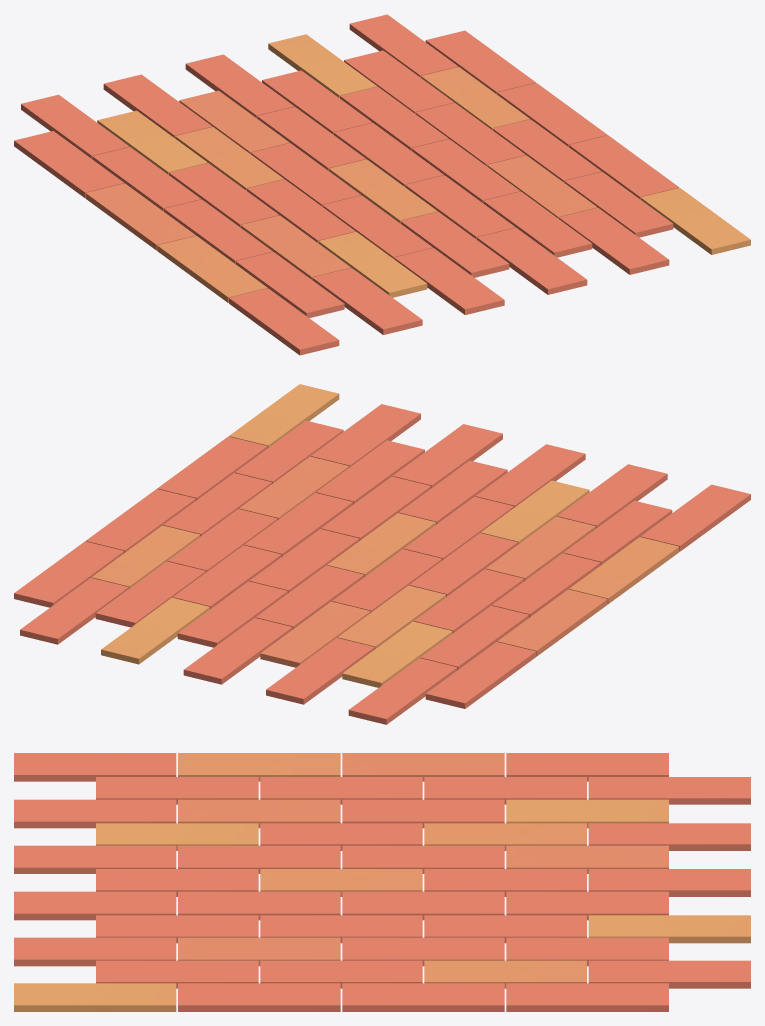
The model's file is Floor.fbx.
3 renders of one model, top to bottom at view 1: azimuth 30°, elevation 25°; view 2: azimuth 150°, elevation 25°; view 3: azimuth 270°, elevation 25°, orthographic. The views are drawn at different scales.
Visible parts, largest first — view 1: Cube.003; view 2: Cube.003; view 3: Cube.003.
Boxes of the visible parts, x1,y1,x2,y2 form: Cube.003: [14, 14, 750, 355]; Cube.003: [14, 384, 750, 724]; Cube.003: [14, 753, 750, 1011].
Size of the model in its own units: 734 by 8.97 by 907.
